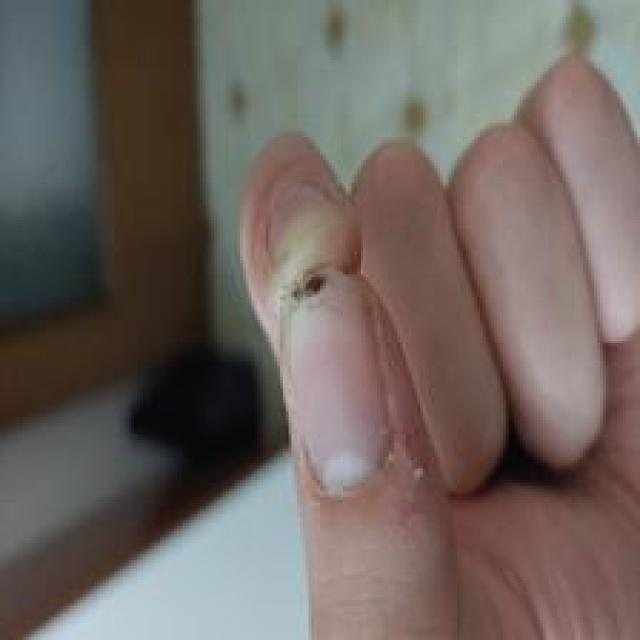Culex: (127, 339, 264, 470)
